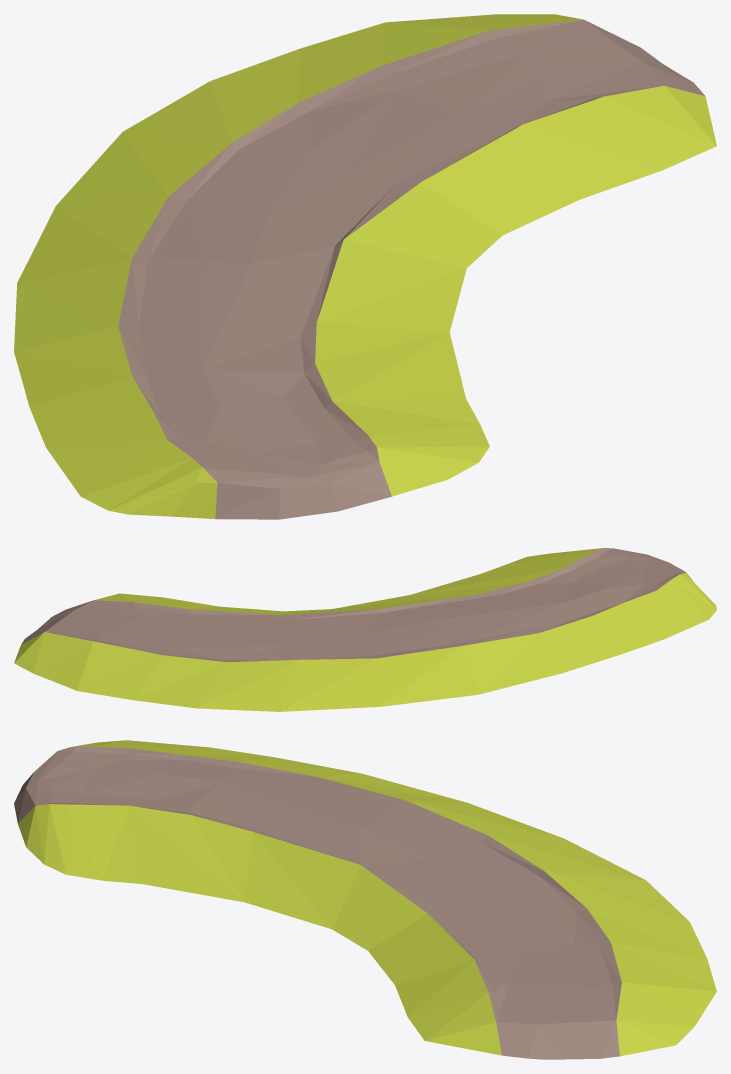
Rendered from Road_008.glb.
3 views of the same model, one above another, from view 1: azimuth 30°, elevation 25°; view 2: azimuth 150°, elevation 25°; view 3: azimuth 270°, elevation 25° (orthographic). The views are drawn at different scales.
Parts seen in each view (by area): view 1: Road_008; view 2: Road_008; view 3: Road_008.
Boxes of the visible parts, x1,y1,x2,y2 form: Road_008: (14,14,716,519); Road_008: (14,548,716,711); Road_008: (14,740,716,1059).
Bounding box in the file's own units: 68.11 × 3.34 × 64.7.
1 material, 1 textured.
